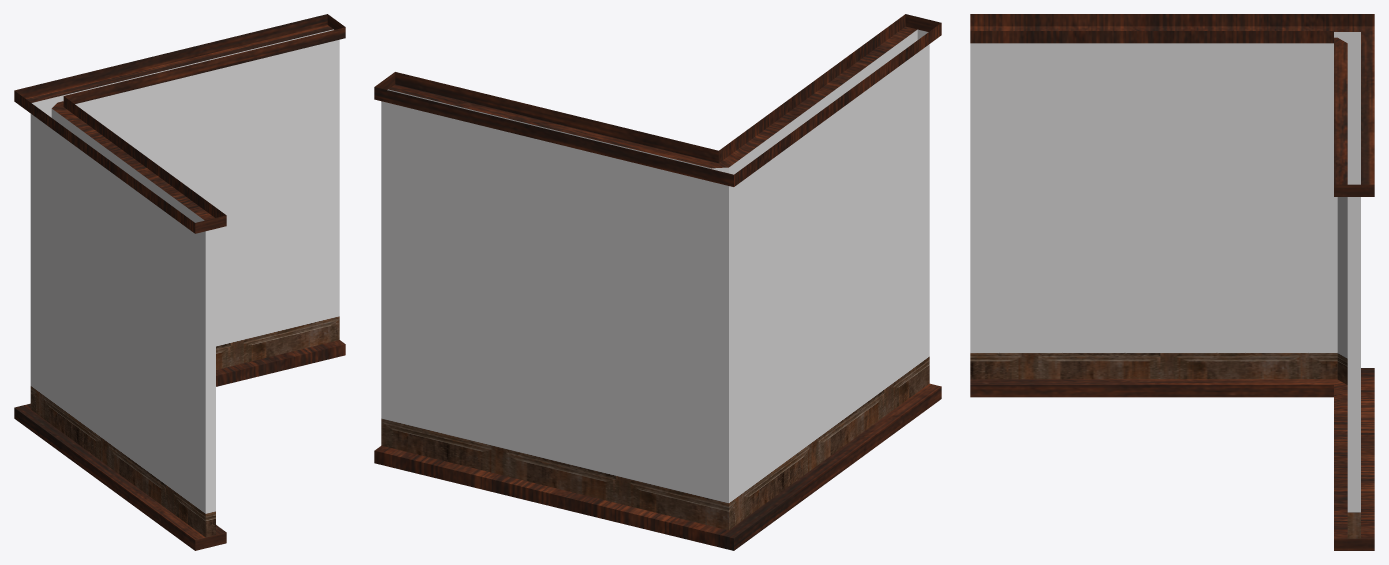
File: Corner1.fbx
3 views of the same model, side by side, from view 1: azimuth 30°, elevation 25°; view 2: azimuth 150°, elevation 25°; view 3: azimuth 270°, elevation 25° (orthographic). The views are drawn at different scales.
Parts seen in each view (by area): view 1: polySurface71; view 2: polySurface71; view 3: polySurface71.
Boxes of the visible parts, box(x1,y1,x2,y2) form: polySurface71: box(14, 14, 345, 550); polySurface71: box(374, 14, 941, 550); polySurface71: box(970, 14, 1374, 550).
Bounding box in the file's own units: 300 × 300 × 300.
